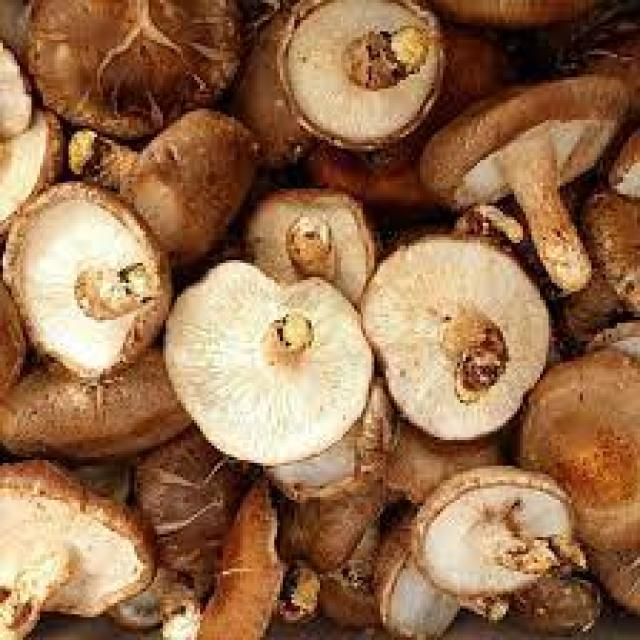Mushroom: (420, 74, 631, 294), (363, 237, 551, 443), (3, 183, 171, 380), (277, 0, 446, 150), (411, 469, 586, 604)
